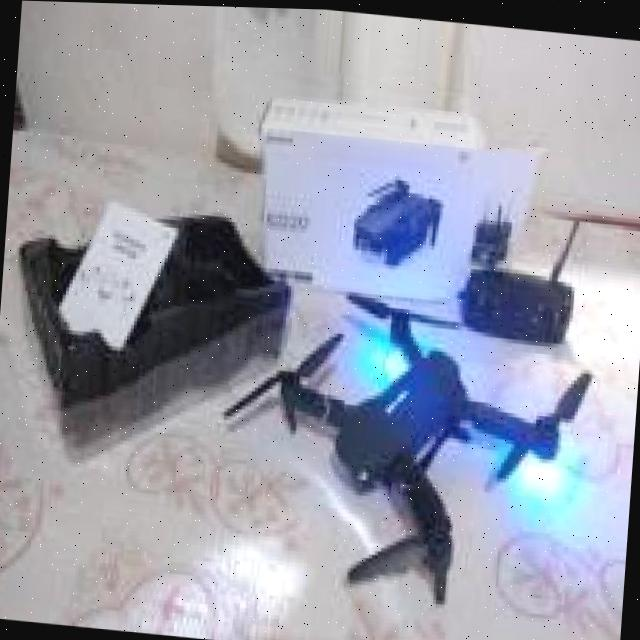drone: (200, 267, 592, 621)
